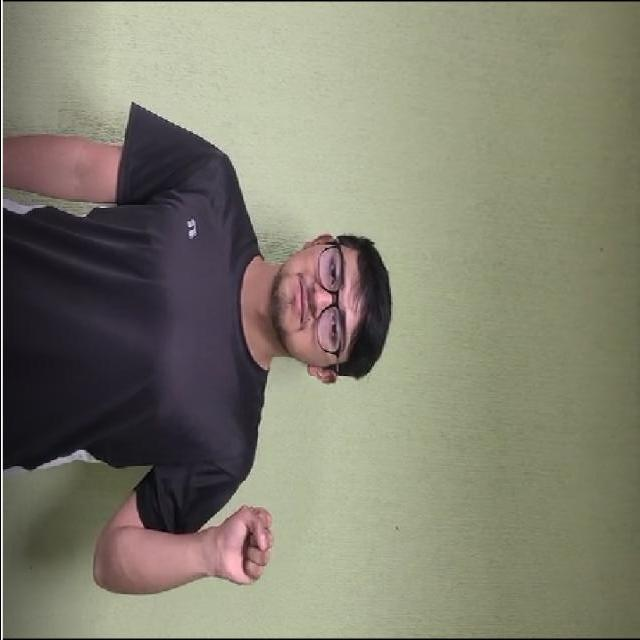S: (204, 466, 296, 628)
